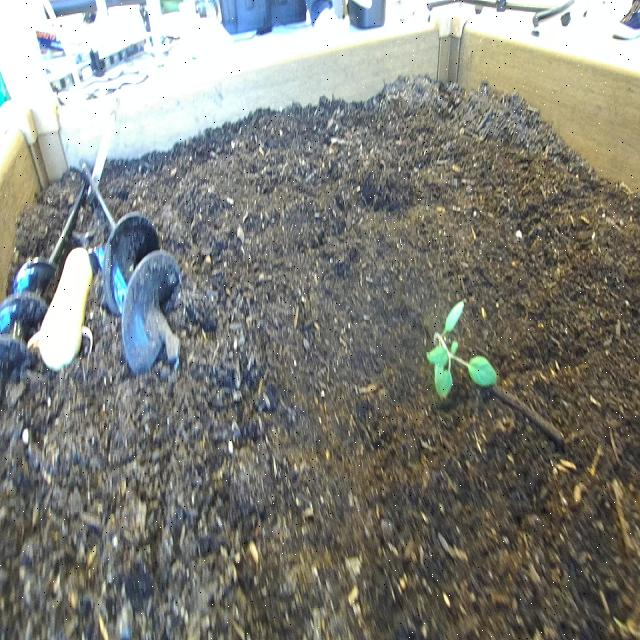Unhealthy: (426, 294, 501, 415)
